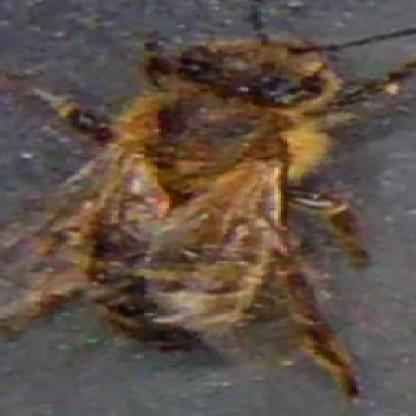bee: (77, 21, 337, 365)
